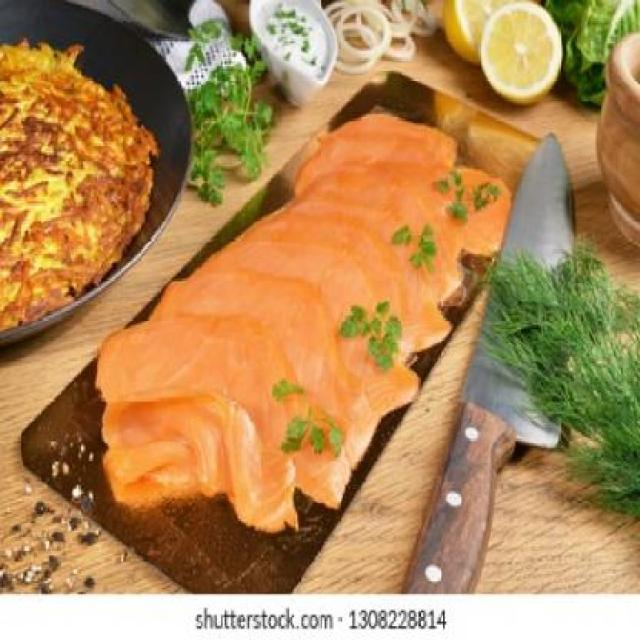salmon: (92, 318, 348, 511), (143, 267, 381, 468), (205, 231, 419, 414), (228, 199, 458, 363), (88, 371, 299, 542), (323, 131, 542, 261), (302, 96, 470, 226), (291, 174, 483, 284)
